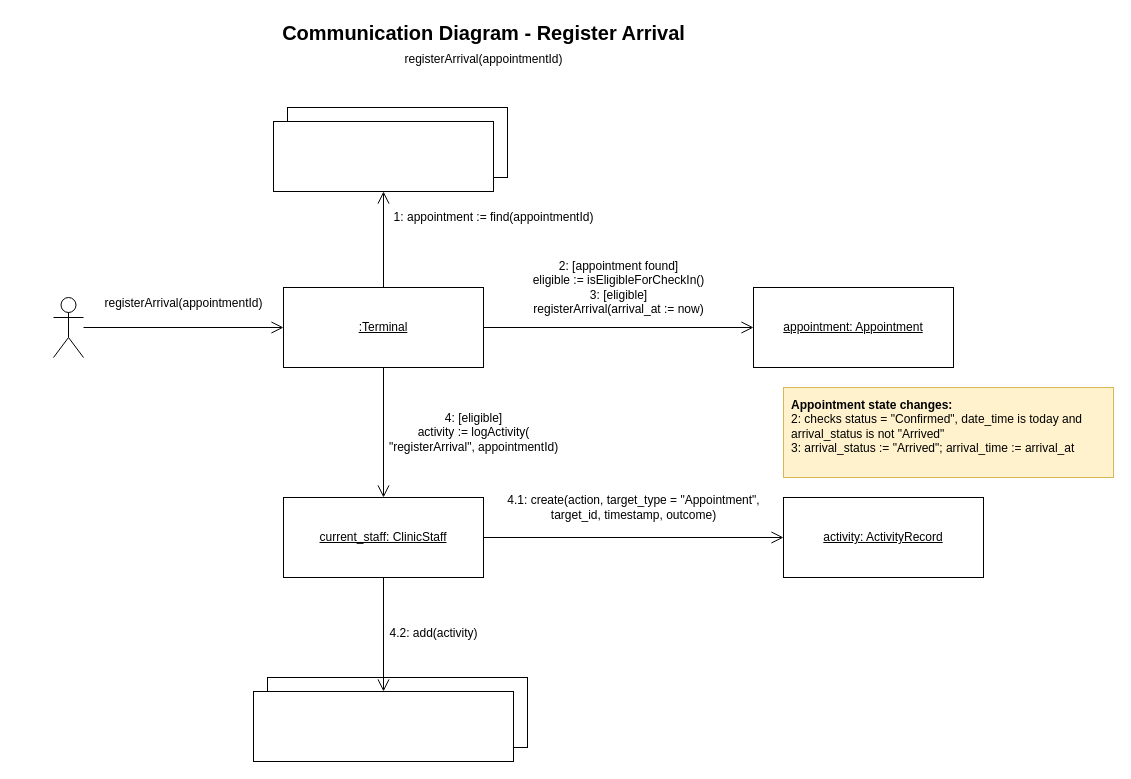
The diagram is 1131 pixels wide and 779 high, and some of its shapes have lost their labels. The shapes that lost their labels are listed below. From the top down, each one's centre as x and y in pixels, then its label:
At [383,156]: "appointments: Appointment".
At [68,327]: "Administrative Staff".
At [383,726]: "current_staff.activity_records: ActivityRecord".
